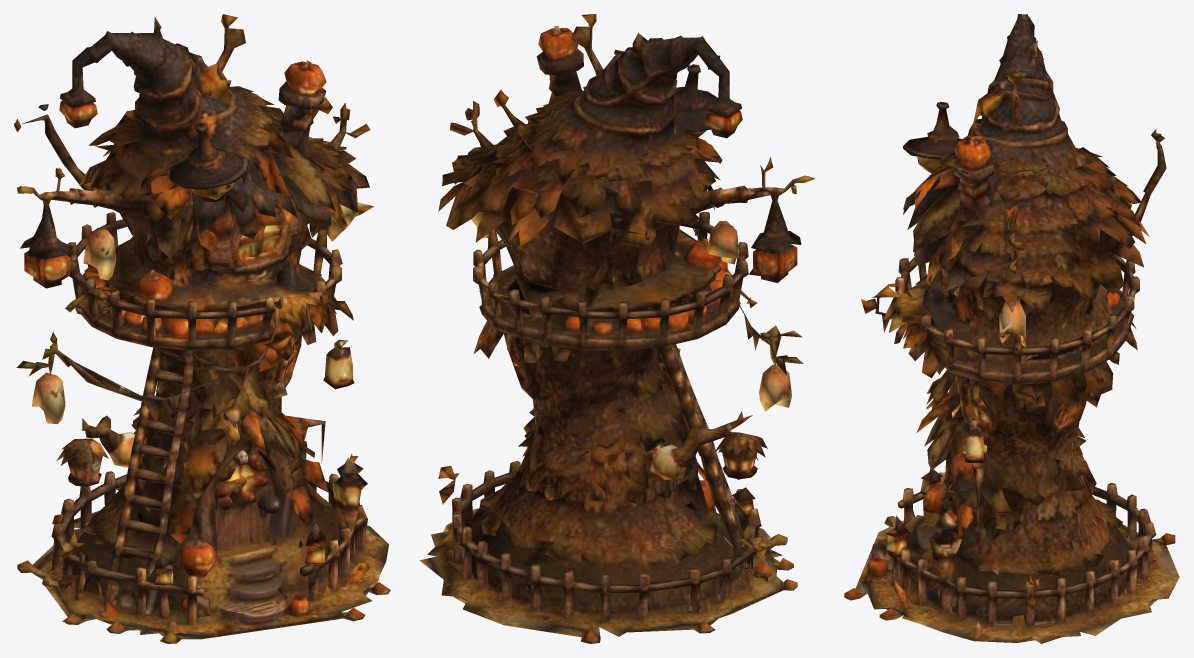
The model's file is house-horror.glb.
The picture shows the model from 3 angles, left to right: view 1: azimuth 30°, elevation 25°; view 2: azimuth 150°, elevation 25°; view 3: azimuth 270°, elevation 25°; orthographic projection. The views are drawn at different scales.
Visible parts, largest first — view 1: tripo_node_bed929dd-4fbb-4777-a5d9-28747901c20d; view 2: tripo_node_bed929dd-4fbb-4777-a5d9-28747901c20d; view 3: tripo_node_bed929dd-4fbb-4777-a5d9-28747901c20d.
Boxes of the visible parts, box(x1,y1,x2,y2) form: tripo_node_bed929dd-4fbb-4777-a5d9-28747901c20d: box(14, 14, 390, 643); tripo_node_bed929dd-4fbb-4777-a5d9-28747901c20d: box(419, 14, 814, 643); tripo_node_bed929dd-4fbb-4777-a5d9-28747901c20d: box(844, 14, 1179, 643).
Bounding box in the file's own units: 0.6729 × 0.9797 × 0.5809.
1 material, 1 textured.
